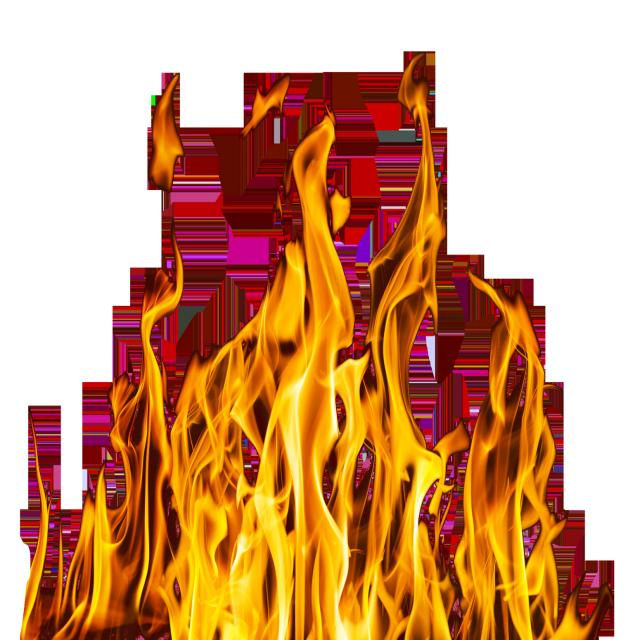fire: (14, 98, 619, 632)
